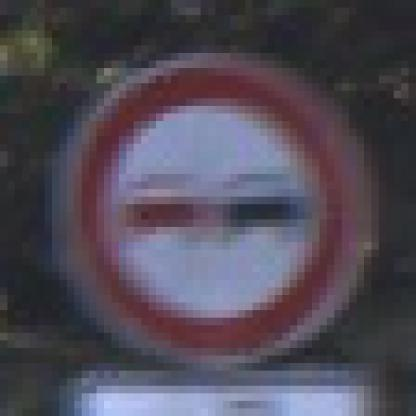No Overtaking: (38, 39, 380, 379)
